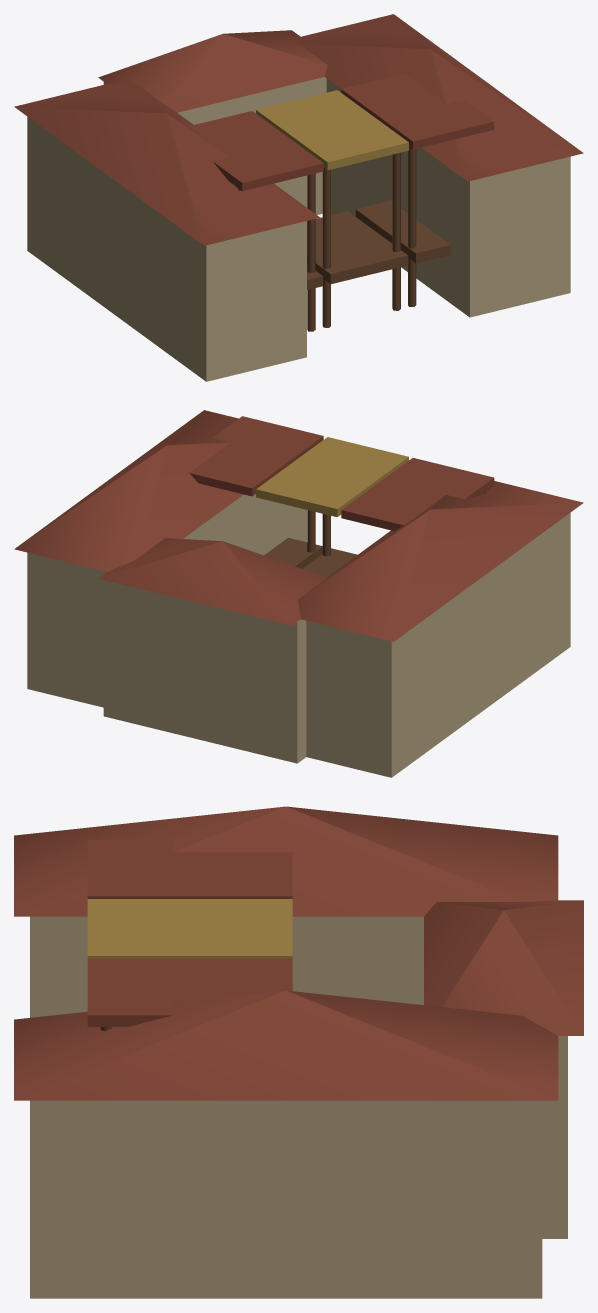
The model's file is custom-cb-market.glb.
3 views of the same model, one above another, from view 1: azimuth 30°, elevation 25°; view 2: azimuth 150°, elevation 25°; view 3: azimuth 270°, elevation 25° (orthographic). The views are drawn at different scales.
Visible parts, largest first — view 1: custom-cb-market; view 2: custom-cb-market; view 3: custom-cb-market.
Boxes of the visible parts, x1,y1,x2,y2 form: custom-cb-market: [14, 14, 583, 381]; custom-cb-market: [14, 410, 583, 777]; custom-cb-market: [14, 806, 583, 1298].
Bounding box in the file's own units: 1 × 0.4796 × 0.9082.
